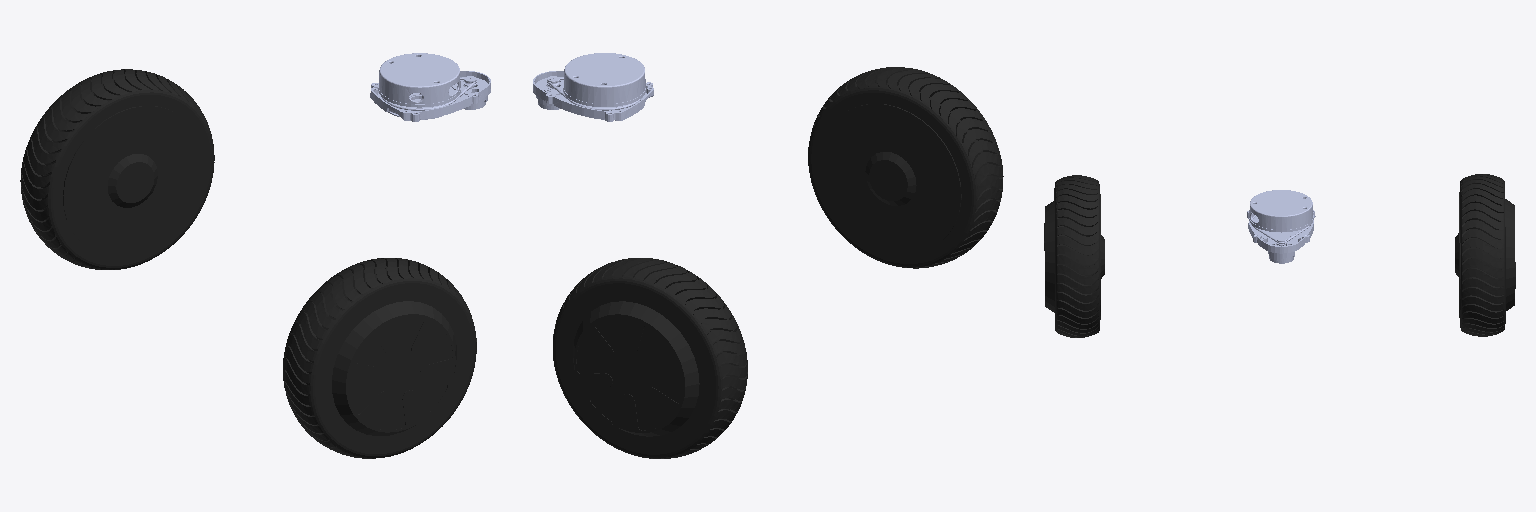
robot.urdf — robot_description_v8:
<?xml version="1.0" encoding="utf-8"?>
<!-- This URDF was automatically created by SolidWorks to URDF Exporter! Originally created by Stephen Brawner (brawner@gmail.com) 
     Commit Version: 1.6.0-4-g7f85cfe  Build Version: 1.6.7995.38578
     For more information, please see http://wiki.ros.org/sw_urdf_exporter -->
<robot
  name="robot_description_v8">
  <link
    name="base_link">
    <inertial>
      <origin
        xyz="0.0377632788296631 -0.0050974408306742 0.0964118157541566"
        rpy="0 0 0" />
      <mass
        value="9.7518965708923" />
      <inertia
        ixx="0.0398294146043104"
        ixy="-0.000240927847110852"
        ixz="0.000696459941001144"
        iyy="0.0602028661453458"
        iyz="1.75297614031867E-05"
        izz="0.0768105894338618" />
    </inertial>
    <visual>
      <origin
        xyz="0 0 0"
        rpy="0 0 0" />
      <geometry>
        <mesh
          filename="package://robot_description_v8/meshes/base_link.STL" />
      </geometry>
      <material
        name="">
        <color
          rgba="0.752941176470588 0.752941176470588 0.752941176470588 1" />
      </material>
    </visual>
    <collision>
      <origin
        xyz="0 0 0"
        rpy="0 0 0" />
      <geometry>
        <mesh
          filename="package://robot_description_v8/meshes/base_link.STL" />
      </geometry>
    </collision>
  </link>
  <link
    name="lidar_link">
    <inertial>
      <origin
        xyz="0.0148383171368057 0.000447683430998269 -0.0211536208310062"
        rpy="0 0 0" />
      <mass
        value="0.0312409127404848" />
      <inertia
        ixx="8.88026370808497E-06"
        ixy="-1.77664494264135E-07"
        ixz="1.13027679908866E-07"
        iyy="1.44910018203739E-05"
        iyz="3.46076114958668E-08"
        izz="2.25289099518329E-05" />
    </inertial>
    <visual>
      <origin
        xyz="0 0 0"
        rpy="0 0 0" />
      <geometry>
        <mesh
          filename="package://robot_description_v8/meshes/lidar_link.STL" />
      </geometry>
      <material
        name="">
        <color
          rgba="0.792156862745098 0.819607843137255 0.933333333333333 1" />
      </material>
    </visual>
    <collision>
      <origin
        xyz="0 0 0"
        rpy="0 0 0" />
      <geometry>
        <mesh
          filename="package://robot_description_v8/meshes/lidar_link.STL" />
      </geometry>
    </collision>
  </link>
  <joint
    name="lidar"
    type="fixed">
    <origin
      xyz="0.155666725643582 0.00112777065633451 0.146099999998099"
      rpy="0 0 0" />
    <parent
      link="base_link" />
    <child
      link="lidar_link" />
    <axis
      xyz="0 0 0" />
  </joint>
  <link
    name="imu_link">
    <inertial>
      <origin
        xyz="-0.0126528450668609 -0.0126936660240067 -0.00550000000000006"
        rpy="0 0 0" />
      <mass
        value="0.00712049275087492" />
      <inertia
        ixx="4.56098515619147E-07"
        ixy="9.31843930741966E-09"
        ixz="-1.09294911674816E-22"
        iyy="4.56158545750304E-07"
        iyz="-1.26829309373438E-21"
        izz="7.68660457560139E-07" />
    </inertial>
    <visual>
      <origin
        xyz="0 0 0"
        rpy="0 0 0" />
      <geometry>
        <mesh
          filename="package://robot_description_v8/meshes/imu_link.STL" />
      </geometry>
      <material
        name="">
        <color
          rgba="0.792156862745098 0.819607843137255 0.933333333333333 1" />
      </material>
    </visual>
    <collision>
      <origin
        xyz="0 0 0"
        rpy="0 0 0" />
      <geometry>
        <mesh
          filename="package://robot_description_v8/meshes/imu_link.STL" />
      </geometry>
    </collision>
  </link>
  <joint
    name="imu"
    type="fixed">
    <origin
      xyz="0.15399361324347 -0.0854574244366719 0.0409999999999995"
      rpy="0 0 0" />
    <parent
      link="base_link" />
    <child
      link="imu_link" />
    <axis
      xyz="0 0 0" />
  </joint>
  <link
    name="right_wheel_link">
    <inertial>
      <origin
        xyz="0.000243587829778402 -0.0295000990455644 8.01161359476055E-11"
        rpy="0 0 0" />
      <mass
        value="0.98170665090244" />
      <inertia
        ixx="0.00165298851738423"
        ixy="-1.0124915182157E-05"
        ixz="1.30270760846639E-08"
        iyy="0.00287861950962305"
        iyz="5.3288362649157E-10"
        izz="0.00165292257365774" />
    </inertial>
    <visual>
      <origin
        xyz="0 0 0"
        rpy="0 0 0" />
      <geometry>
        <mesh
          filename="package://robot_description_v8/meshes/right_wheel_link.STL" />
      </geometry>
      <material
        name="">
        <color
          rgba="0.2 0.2 0.2 1" />
      </material>
    </visual>
    <collision>
      <origin
        xyz="0 0 0"
        rpy="0 0 0" />
      <geometry>
        <mesh
          filename="package://robot_description_v8/meshes/right_wheel_link.STL" />
      </geometry>
    </collision>
  </link>
  <joint
    name="right_wheel"
    type="continuous">
    <origin
      xyz="0.00157556970077044 -0.175020257687692 0.0150000000042175"
      rpy="0 0 0" />
    <parent
      link="base_link" />
    <child
      link="right_wheel_link" />
    <axis
      xyz="-0.00825691107326283 0.999965911128739 0" />
  </joint>
  <link
    name="left_wheel_link">
    <inertial>
      <origin
        xyz="-0.000243587829778624 0.0295000990455644 8.01156363472444E-11"
        rpy="0 0 0" />
      <mass
        value="0.981706650902443" />
      <inertia
        ixx="0.00165299120834847"
        ixy="-1.01249109871006E-05"
        ixz="-1.44984115092379E-08"
        iyy="0.00287861950901393"
        iyz="7.25004224033089E-11"
        izz="0.00165291988234476" />
    </inertial>
    <visual>
      <origin
        xyz="0 0 0"
        rpy="0 0 0" />
      <geometry>
        <mesh
          filename="package://robot_description_v8/meshes/left_wheel_link.STL" />
      </geometry>
      <material
        name="">
        <color
          rgba="0.2 0.2 0.2 1" />
      </material>
    </visual>
    <collision>
      <origin
        xyz="0 0 0"
        rpy="0 0 0" />
      <geometry>
        <mesh
          filename="package://robot_description_v8/meshes/left_wheel_link.STL" />
      </geometry>
    </collision>
  </link>
  <joint
    name="left_wheel"
    type="continuous">
    <origin
      xyz="-0.00131434917487327 0.174967811207364 0.0150000000042169"
      rpy="0 0 0" />
    <parent
      link="base_link" />
    <child
      link="left_wheel_link" />
    <axis
      xyz="0.00825691107326281 -0.999965911128739 0" />
  </joint>
  <link
    name="camera_link">
    <inertial>
      <origin
        xyz="-0.0286974043856941 -0.00315323141543045 -0.0069642717036188"
        rpy="0 0 0" />
      <mass
        value="0.646454884722171" />
      <inertia
        ixx="0.00284238273162732"
        ixy="1.87273045722636E-05"
        ixz="1.48075090926784E-07"
        iyy="0.000263758634501103"
        iyz="-3.33736129073377E-08"
        izz="0.00296274058967308" />
    </inertial>
    <visual>
      <origin
        xyz="0 0 0"
        rpy="0 0 0" />
      <geometry>
        <mesh
          filename="package://robot_description_v8/meshes/camera_link.STL" />
      </geometry>
      <material
        name="">
        <color
          rgba="0.752941176470588 0.752941176470588 0.752941176470588 1" />
      </material>
    </visual>
    <collision>
      <origin
        xyz="0 0 0"
        rpy="0 0 0" />
      <geometry>
        <mesh
          filename="package://robot_description_v8/meshes/camera_link.STL" />
      </geometry>
    </collision>
  </link>
  <joint
    name="cam"
    type="fixed">
    <origin
      xyz="0.264952270554911 0.00535821231736117 0.284425164615102"
      rpy="0 0 0" />
    <parent
      link="base_link" />
    <child
      link="camera_link" />
    <axis
      xyz="0 0 0" />
  </joint>
</robot>

--- What the picture shows (computed from the rendered views, not written in the file) ---
The picture shows the robot from 3 angles, left to right: view 1: azimuth 30°, elevation 25°; view 2: azimuth 150°, elevation 25°; view 3: azimuth 270°, elevation 25°; orthographic projection.
Model robot_description_v8 with 6 links and 5 joints (2 continuous, 3 fixed), rooted at base_link, posed all joints at 0.
Visible links, largest first — view 1: left_wheel_link, right_wheel_link, lidar_link; view 2: right_wheel_link, left_wheel_link, lidar_link; view 3: left_wheel_link, right_wheel_link, lidar_link.
Boxes of the visible links, x1=… form: left_wheel_link: x1=20, y1=69, x2=214, y2=269; right_wheel_link: x1=283, y1=258, x2=476, y2=458; lidar_link: x1=370, y1=53, x2=490, y2=121; right_wheel_link: x1=808, y1=67, x2=1003, y2=268; left_wheel_link: x1=553, y1=258, x2=747, y2=458; lidar_link: x1=533, y1=53, x2=653, y2=121; left_wheel_link: x1=1455, y1=174, x2=1515, y2=336; right_wheel_link: x1=1044, y1=175, x2=1104, y2=337; lidar_link: x1=1247, y1=190, x2=1315, y2=263.
Size in the robot's own frame: 0.3006 by 0.4708 by 0.2126 metres.
Meshes: 6 distinct files referenced, 3 mesh visuals loaded (3 binary STL); not drawn: 3 (reference not matched to a file when rendering).
